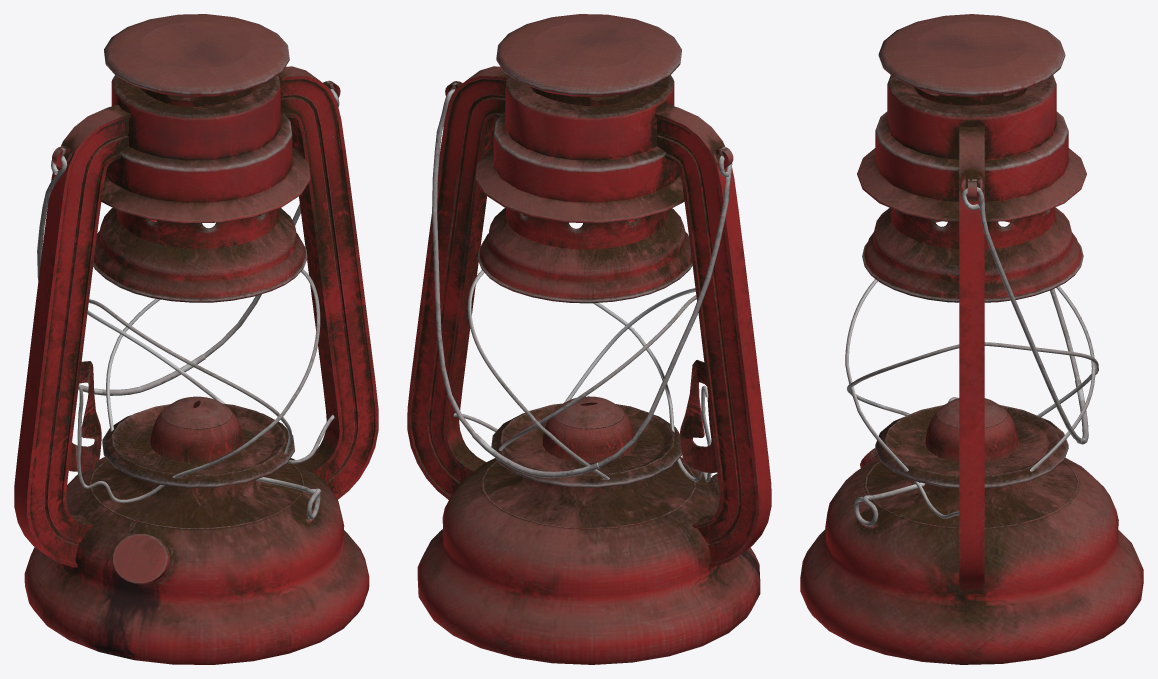
The model's file is lampara.obj.
3 views of the same model, side by side, from view 1: azimuth 30°, elevation 25°; view 2: azimuth 150°, elevation 25°; view 3: azimuth 270°, elevation 25° (orthographic).
Parts seen in each view (by area): view 1: lantern_base_StingrayPBS1, supporting_cage_StingrayPBS1, lid_StingrayPBS1, handle_StingrayPBS1, handle_small_StingrayPBS1; view 2: lantern_base_StingrayPBS1, handle_StingrayPBS1, supporting_cage_StingrayPBS1; view 3: lantern_base_StingrayPBS1, supporting_cage_StingrayPBS1, handle_StingrayPBS1, handle_small_StingrayPBS1.
Boxes of the visible parts, x1=… form: lantern_base_StingrayPBS1: x1=14, y1=14, x2=378, y2=664; supporting_cage_StingrayPBS1: x1=77, y1=269, x2=334, y2=503; lid_StingrayPBS1: x1=112, y1=534, x2=169, y2=584; handle_StingrayPBS1: x1=37, y1=89, x2=339, y2=395; handle_small_StingrayPBS1: x1=255, y1=477, x2=321, y2=519; lantern_base_StingrayPBS1: x1=407, y1=14, x2=771, y2=664; handle_StingrayPBS1: x1=432, y1=89, x2=732, y2=477; supporting_cage_StingrayPBS1: x1=453, y1=270, x2=711, y2=482; lantern_base_StingrayPBS1: x1=800, y1=14, x2=1143, y2=664; supporting_cage_StingrayPBS1: x1=845, y1=279, x2=1098, y2=518; handle_StingrayPBS1: x1=962, y1=187, x2=1088, y2=444; handle_small_StingrayPBS1: x1=854, y1=482, x2=924, y2=526.
Bounding box in the file's own units: 0.5983 × 0.893 × 0.5064.
Materials: 1 (1 with a texture image).
